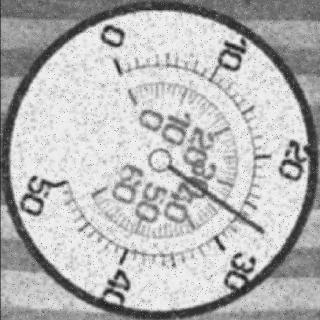gauge: (1, 0, 320, 320), (42, 161, 84, 204), (94, 51, 140, 87), (147, 148, 171, 172), (251, 223, 269, 239)
